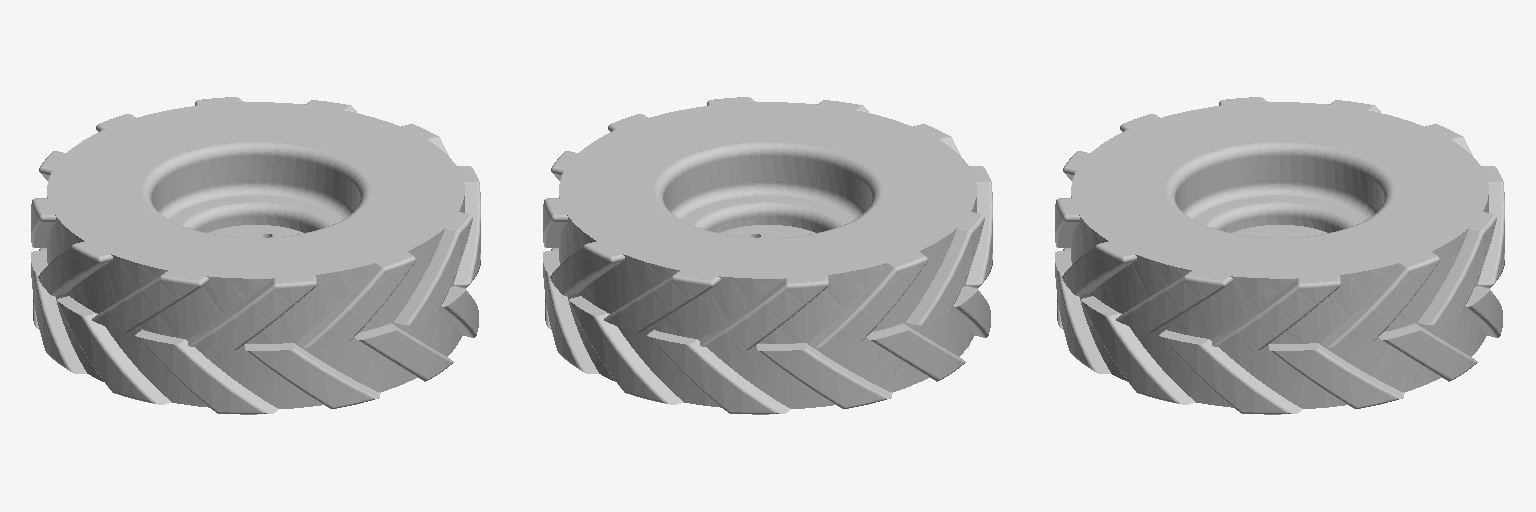
The model's file is wheel.obj.
3 renders of one model, left to right at view 1: azimuth 30°, elevation 25°; view 2: azimuth 150°, elevation 25°; view 3: azimuth 270°, elevation 25°, orthographic.
Parts seen in each view (by area): view 1: obj1; view 2: obj1; view 3: obj1.
Boxes of the visible parts, x1=… form: obj1: x1=31, y1=97, x2=480, y2=414; obj1: x1=543, y1=97, x2=992, y2=414; obj1: x1=1055, y1=97, x2=1504, y2=414.
Size of the model in its own units: 0.3556 by 0.1143 by 0.3556.